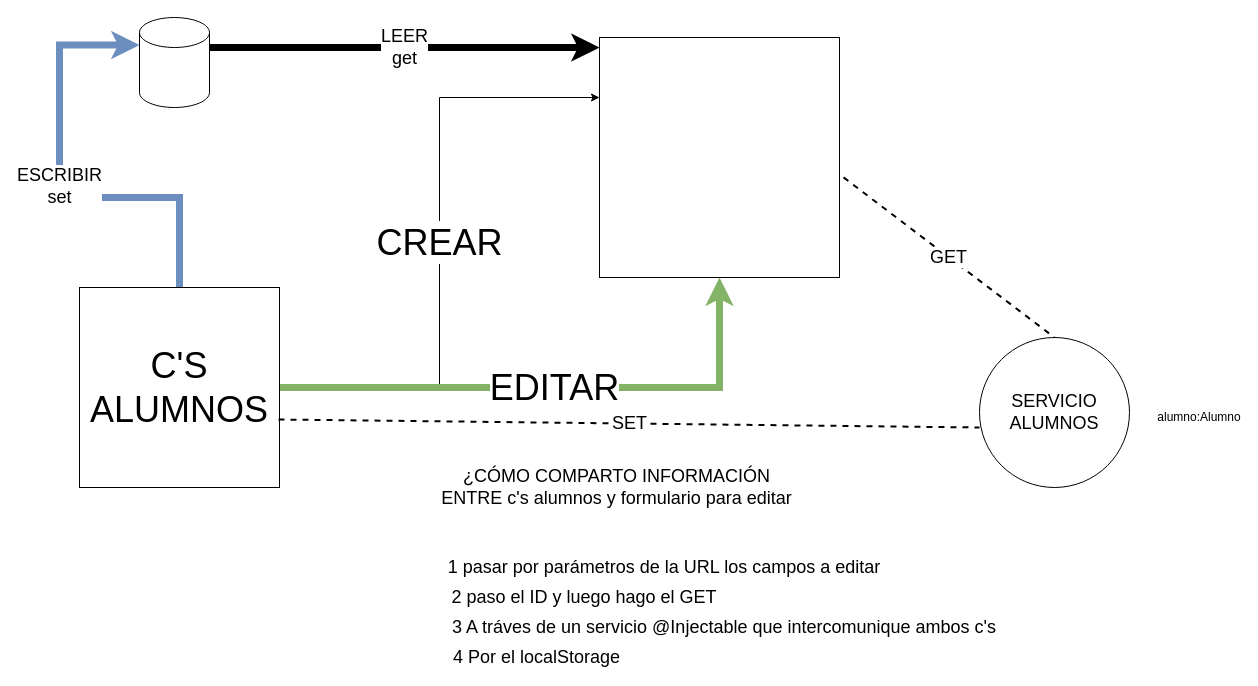
The diagram is 1258 pixels wide and 686 high, and some of its shapes have lost their labels. Each missing label, with the centre of its shape:
C'S FORMULARIO: the point at 719,157
LOCAL STORAGE: the point at 174,62
